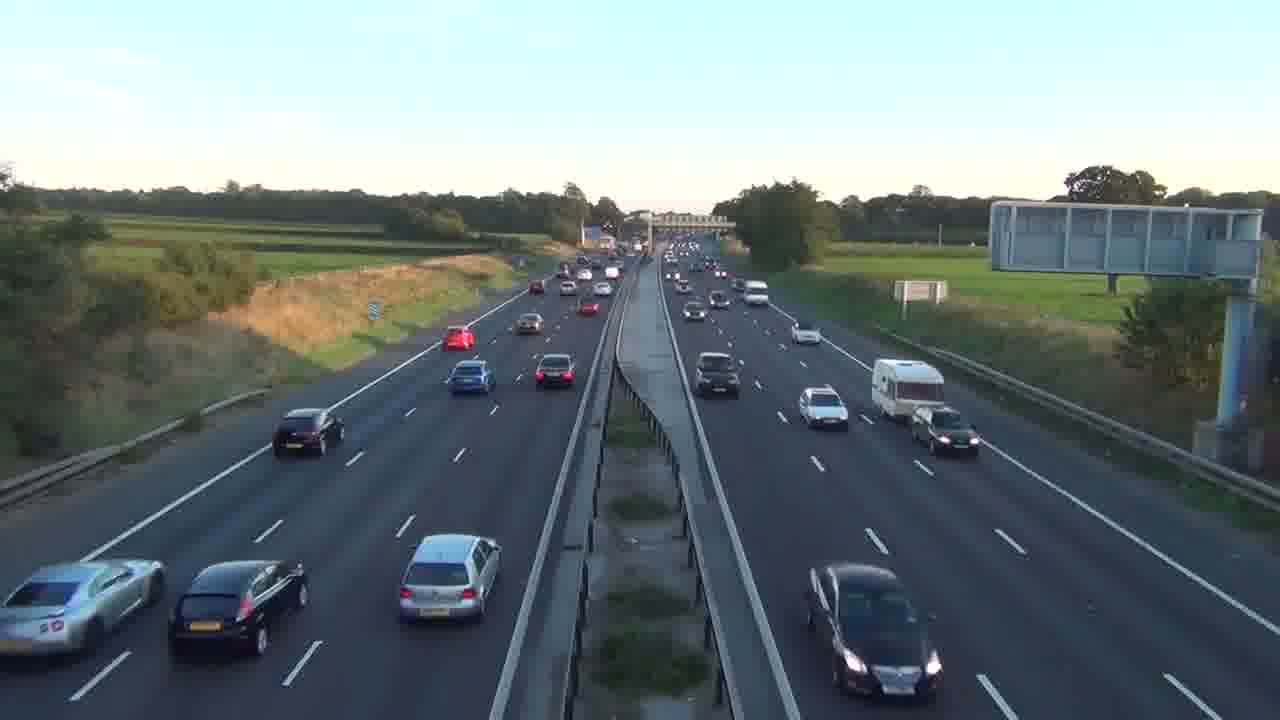car: (804, 561, 944, 706), (0, 556, 166, 659), (169, 558, 311, 657), (396, 532, 502, 625), (909, 402, 981, 456), (914, 403, 982, 456), (798, 385, 849, 430), (445, 359, 496, 394), (533, 352, 577, 389)
truck: (804, 561, 944, 706), (871, 357, 946, 424), (271, 406, 345, 457)
